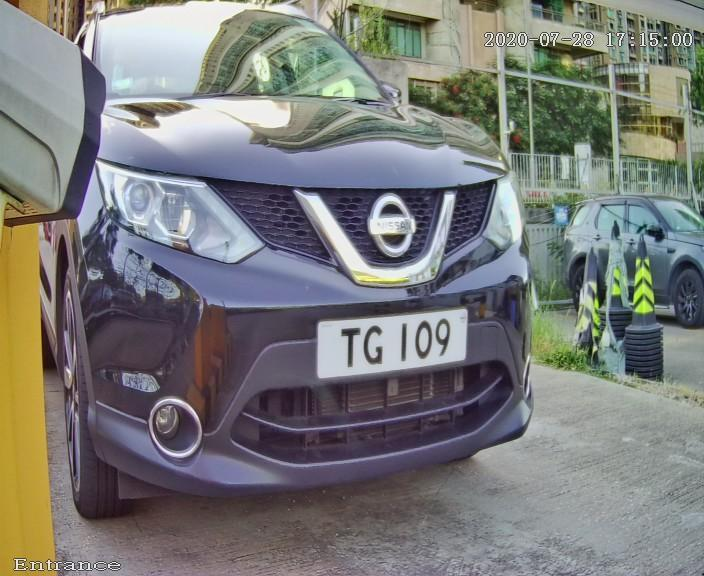privatecar: (51, 1, 559, 522)
